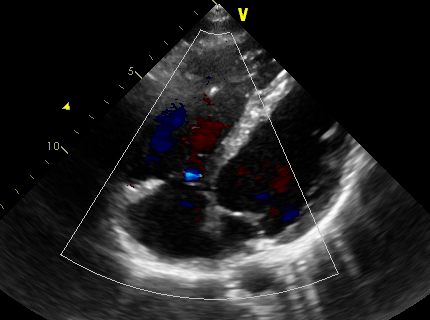TR: (151, 158, 208, 209)
